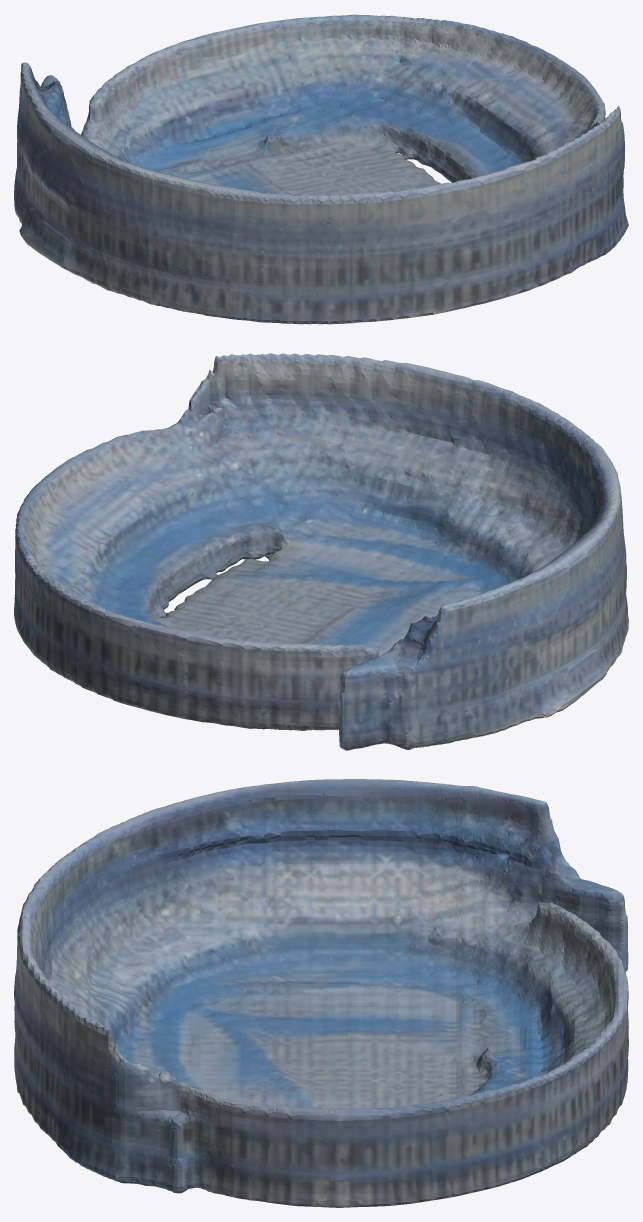
File: colosseum.glb
3 renders of one model, top to bottom at view 1: azimuth 30°, elevation 25°; view 2: azimuth 150°, elevation 25°; view 3: azimuth 270°, elevation 25°, orthographic. The views are drawn at different scales.
Visible parts, largest first — view 1: world; view 2: world; view 3: world.
Boxes of the visible parts, bbox=[...] form: world: bbox=[14, 14, 628, 324]; world: bbox=[14, 353, 628, 750]; world: bbox=[14, 779, 628, 1207].
Size of the model in its own units: 1.93 by 0.4916 by 1.74.
